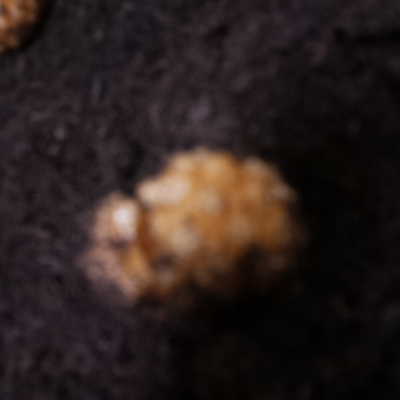eggs: (73, 141, 316, 329), (1, 2, 55, 61)
